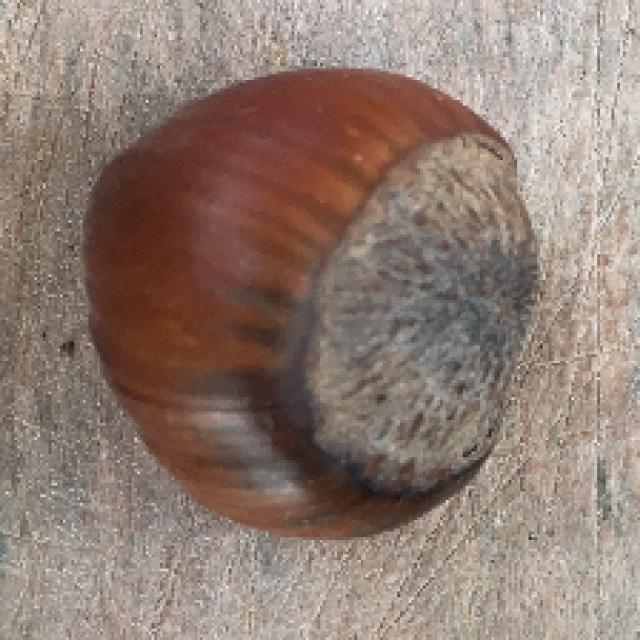damagedHazelnut: (88, 42, 544, 563)
